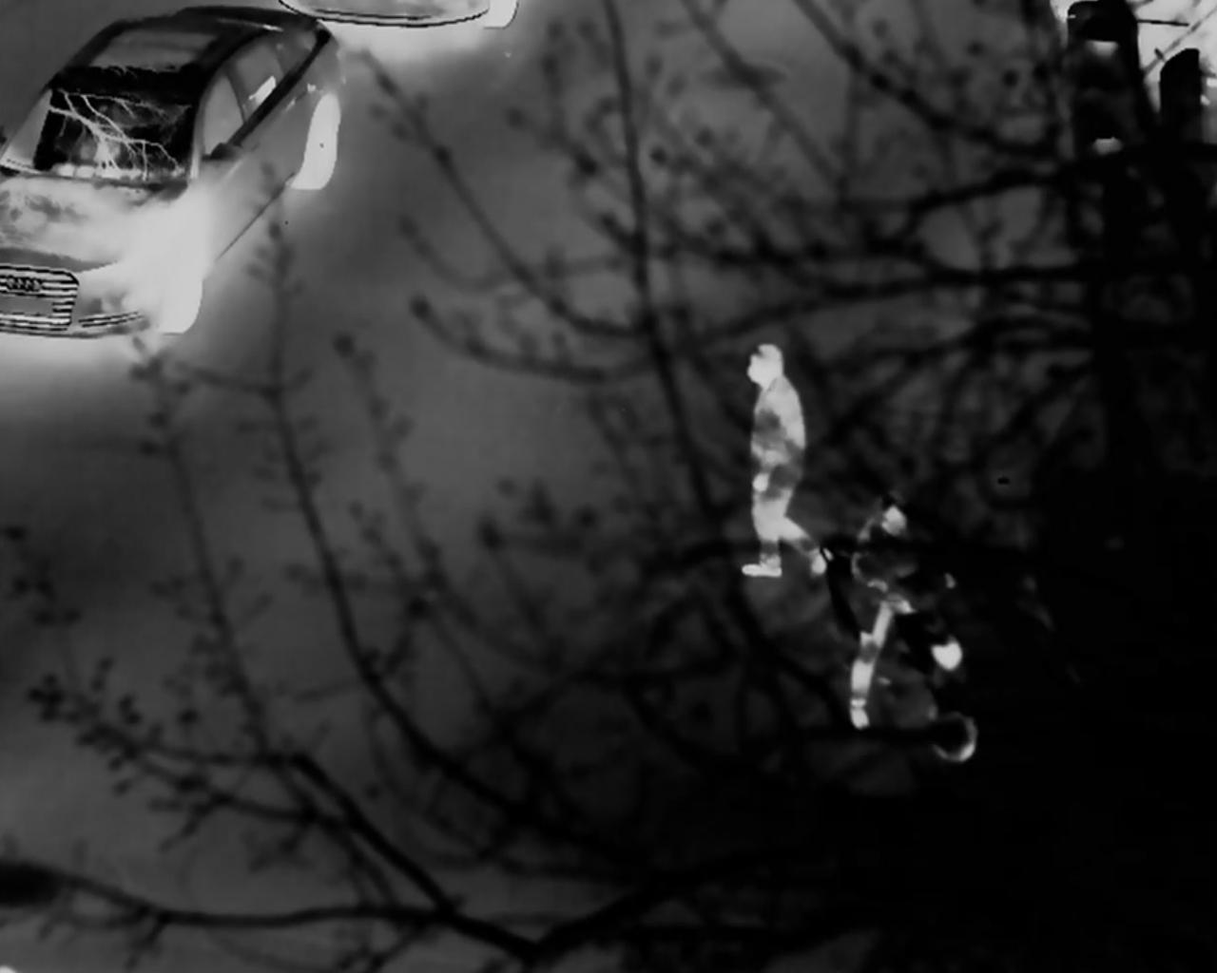person: (733, 336, 834, 573), (853, 500, 956, 725)
